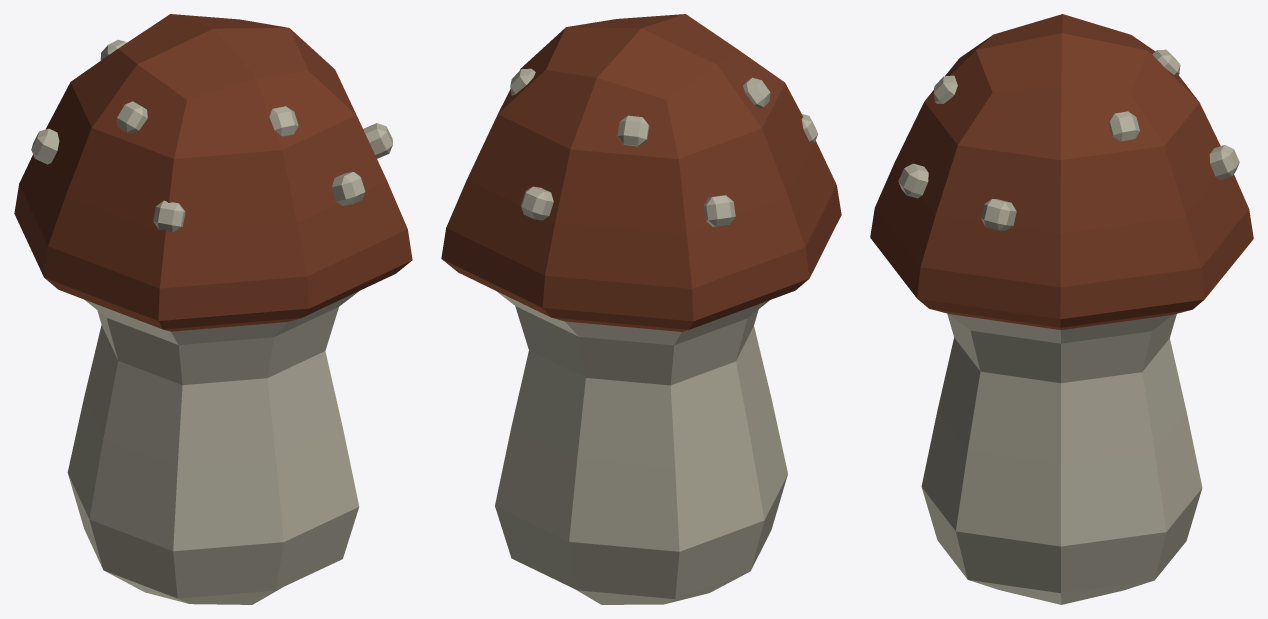
File: crop-mushroom-2.glb
The picture shows the model from 3 angles, left to right: view 1: azimuth 30°, elevation 25°; view 2: azimuth 150°, elevation 25°; view 3: azimuth 270°, elevation 25°; orthographic projection.
Visible parts, largest first — view 1: Cube_045; view 2: Cube_045; view 3: Cube_045.
Part boxes in pixels (x1,y1,x2,y2): Cube_045: (14,14,412,604); Cube_045: (441,14,841,604); Cube_045: (870,14,1253,604).
Size of the model in its own units: 0.1415 by 0.2237 by 0.1415.
